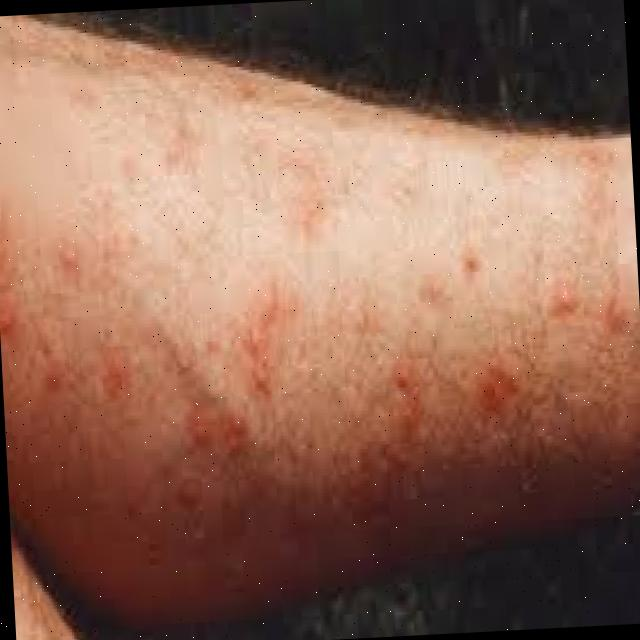kene: (238, 277, 297, 406), (476, 354, 524, 428), (547, 272, 585, 329)
